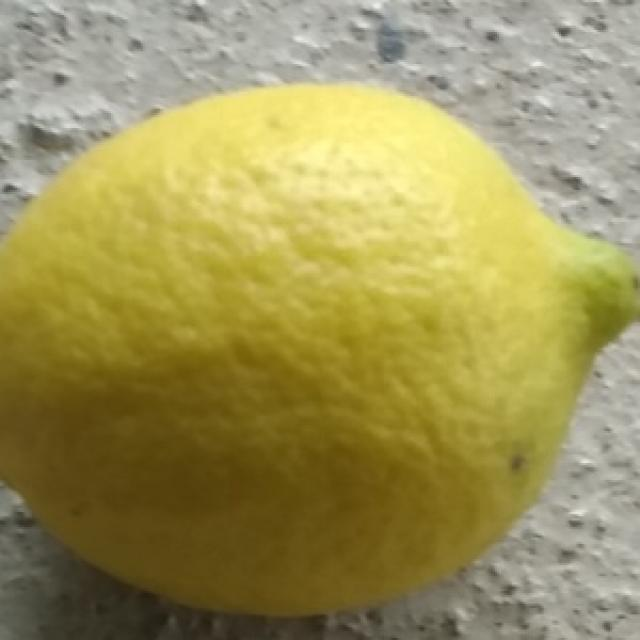Lemon: (0, 78, 640, 622)
